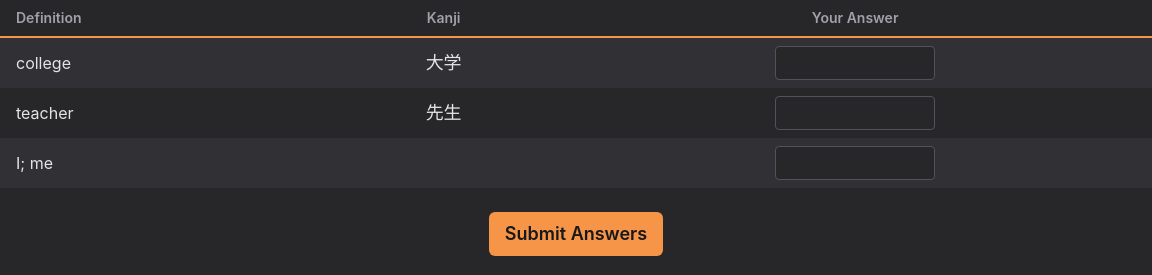
Test: VocabWriteInQuiz › re-enables but does not clear inputs on Try Again
The image size is (1152, 275).
Step 1. Type "だいがく" into the field named "だいがく" in the row of "college" → (855, 63), box [775,46,935,80]
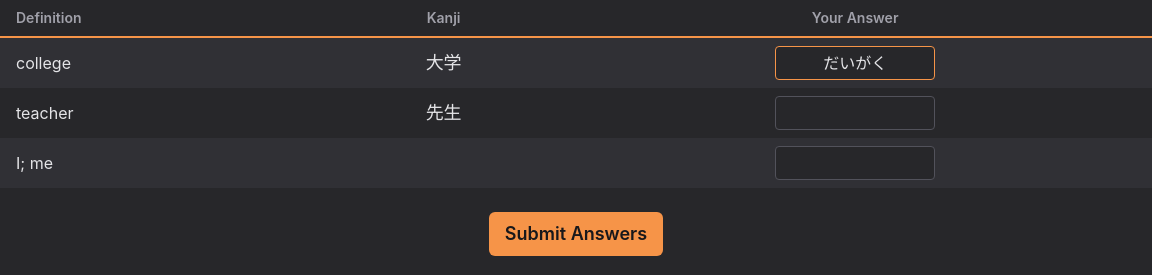
Step 2. Click the button "Submit Answers" → (576, 234), box [489,212,663,256]
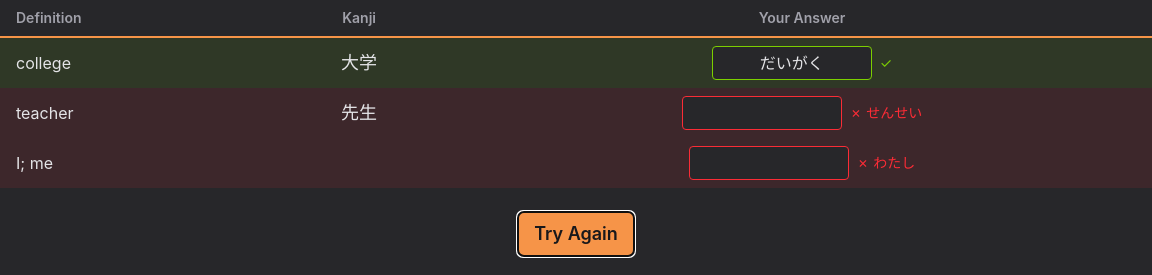
Expected: the field named "だいがく" in the row of "college" is disabled, [712,46,872,80]
Step 3. Click the button "Try Again" → (576, 234), box [518,212,634,256]
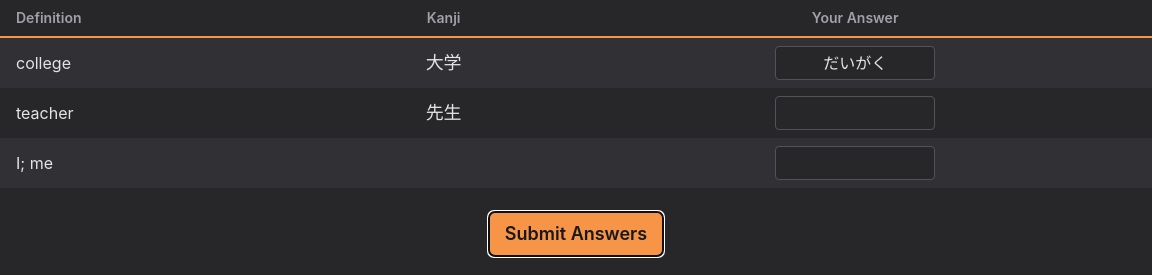
Expected: the field named "だいがく" in the row of "college" is enabled, [775,46,935,80]
